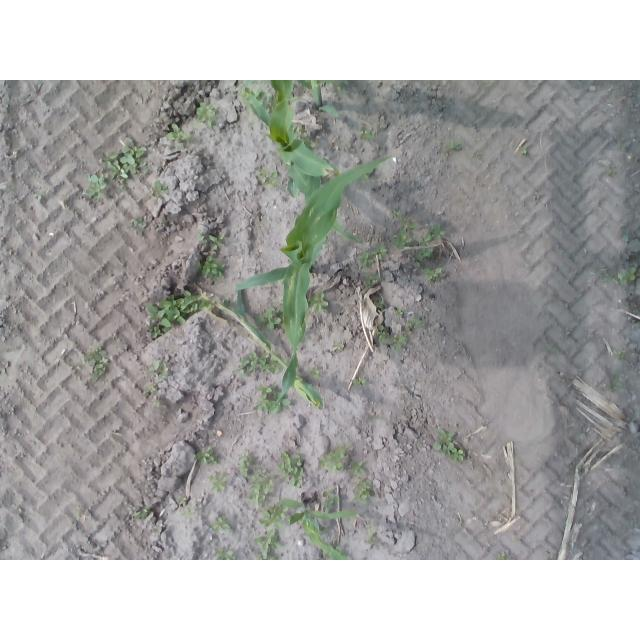Maize: (236, 155, 389, 413), (242, 80, 362, 245), (211, 291, 323, 410), (281, 496, 359, 560), (298, 81, 351, 120)
Weeds: (144, 288, 217, 340), (103, 141, 148, 183), (196, 229, 228, 279), (237, 352, 283, 380), (244, 467, 273, 509), (432, 427, 464, 464), (253, 384, 292, 414), (316, 442, 352, 474), (251, 526, 283, 560), (279, 450, 306, 490), (82, 345, 110, 382), (390, 209, 416, 248), (357, 240, 387, 268), (256, 302, 284, 330), (81, 170, 107, 199), (352, 478, 377, 506), (195, 100, 217, 128), (166, 122, 195, 143), (261, 506, 290, 527), (208, 470, 228, 497), (238, 450, 254, 482), (257, 165, 280, 187), (310, 291, 331, 313), (197, 446, 220, 466), (415, 241, 434, 264), (241, 86, 264, 105), (147, 360, 169, 379), (322, 489, 340, 512), (425, 222, 445, 242), (214, 544, 238, 560), (406, 313, 427, 331), (210, 516, 232, 532), (364, 524, 380, 545), (423, 267, 445, 282), (619, 268, 638, 284), (350, 461, 370, 476), (376, 324, 389, 347), (610, 374, 624, 395), (151, 180, 169, 196), (394, 331, 407, 352), (600, 268, 617, 284), (363, 271, 381, 286), (360, 126, 375, 143), (180, 507, 201, 519), (445, 140, 464, 153), (130, 216, 148, 229), (308, 365, 322, 381), (143, 382, 157, 398), (611, 345, 625, 359), (619, 226, 629, 245), (352, 377, 368, 387), (295, 124, 307, 137), (304, 138, 316, 151), (331, 340, 344, 352), (136, 509, 151, 519), (616, 139, 627, 152), (605, 161, 615, 175), (177, 495, 188, 506), (375, 299, 385, 311), (495, 550, 506, 560), (394, 309, 404, 319), (76, 506, 84, 518), (521, 146, 528, 156), (362, 174, 370, 182)
